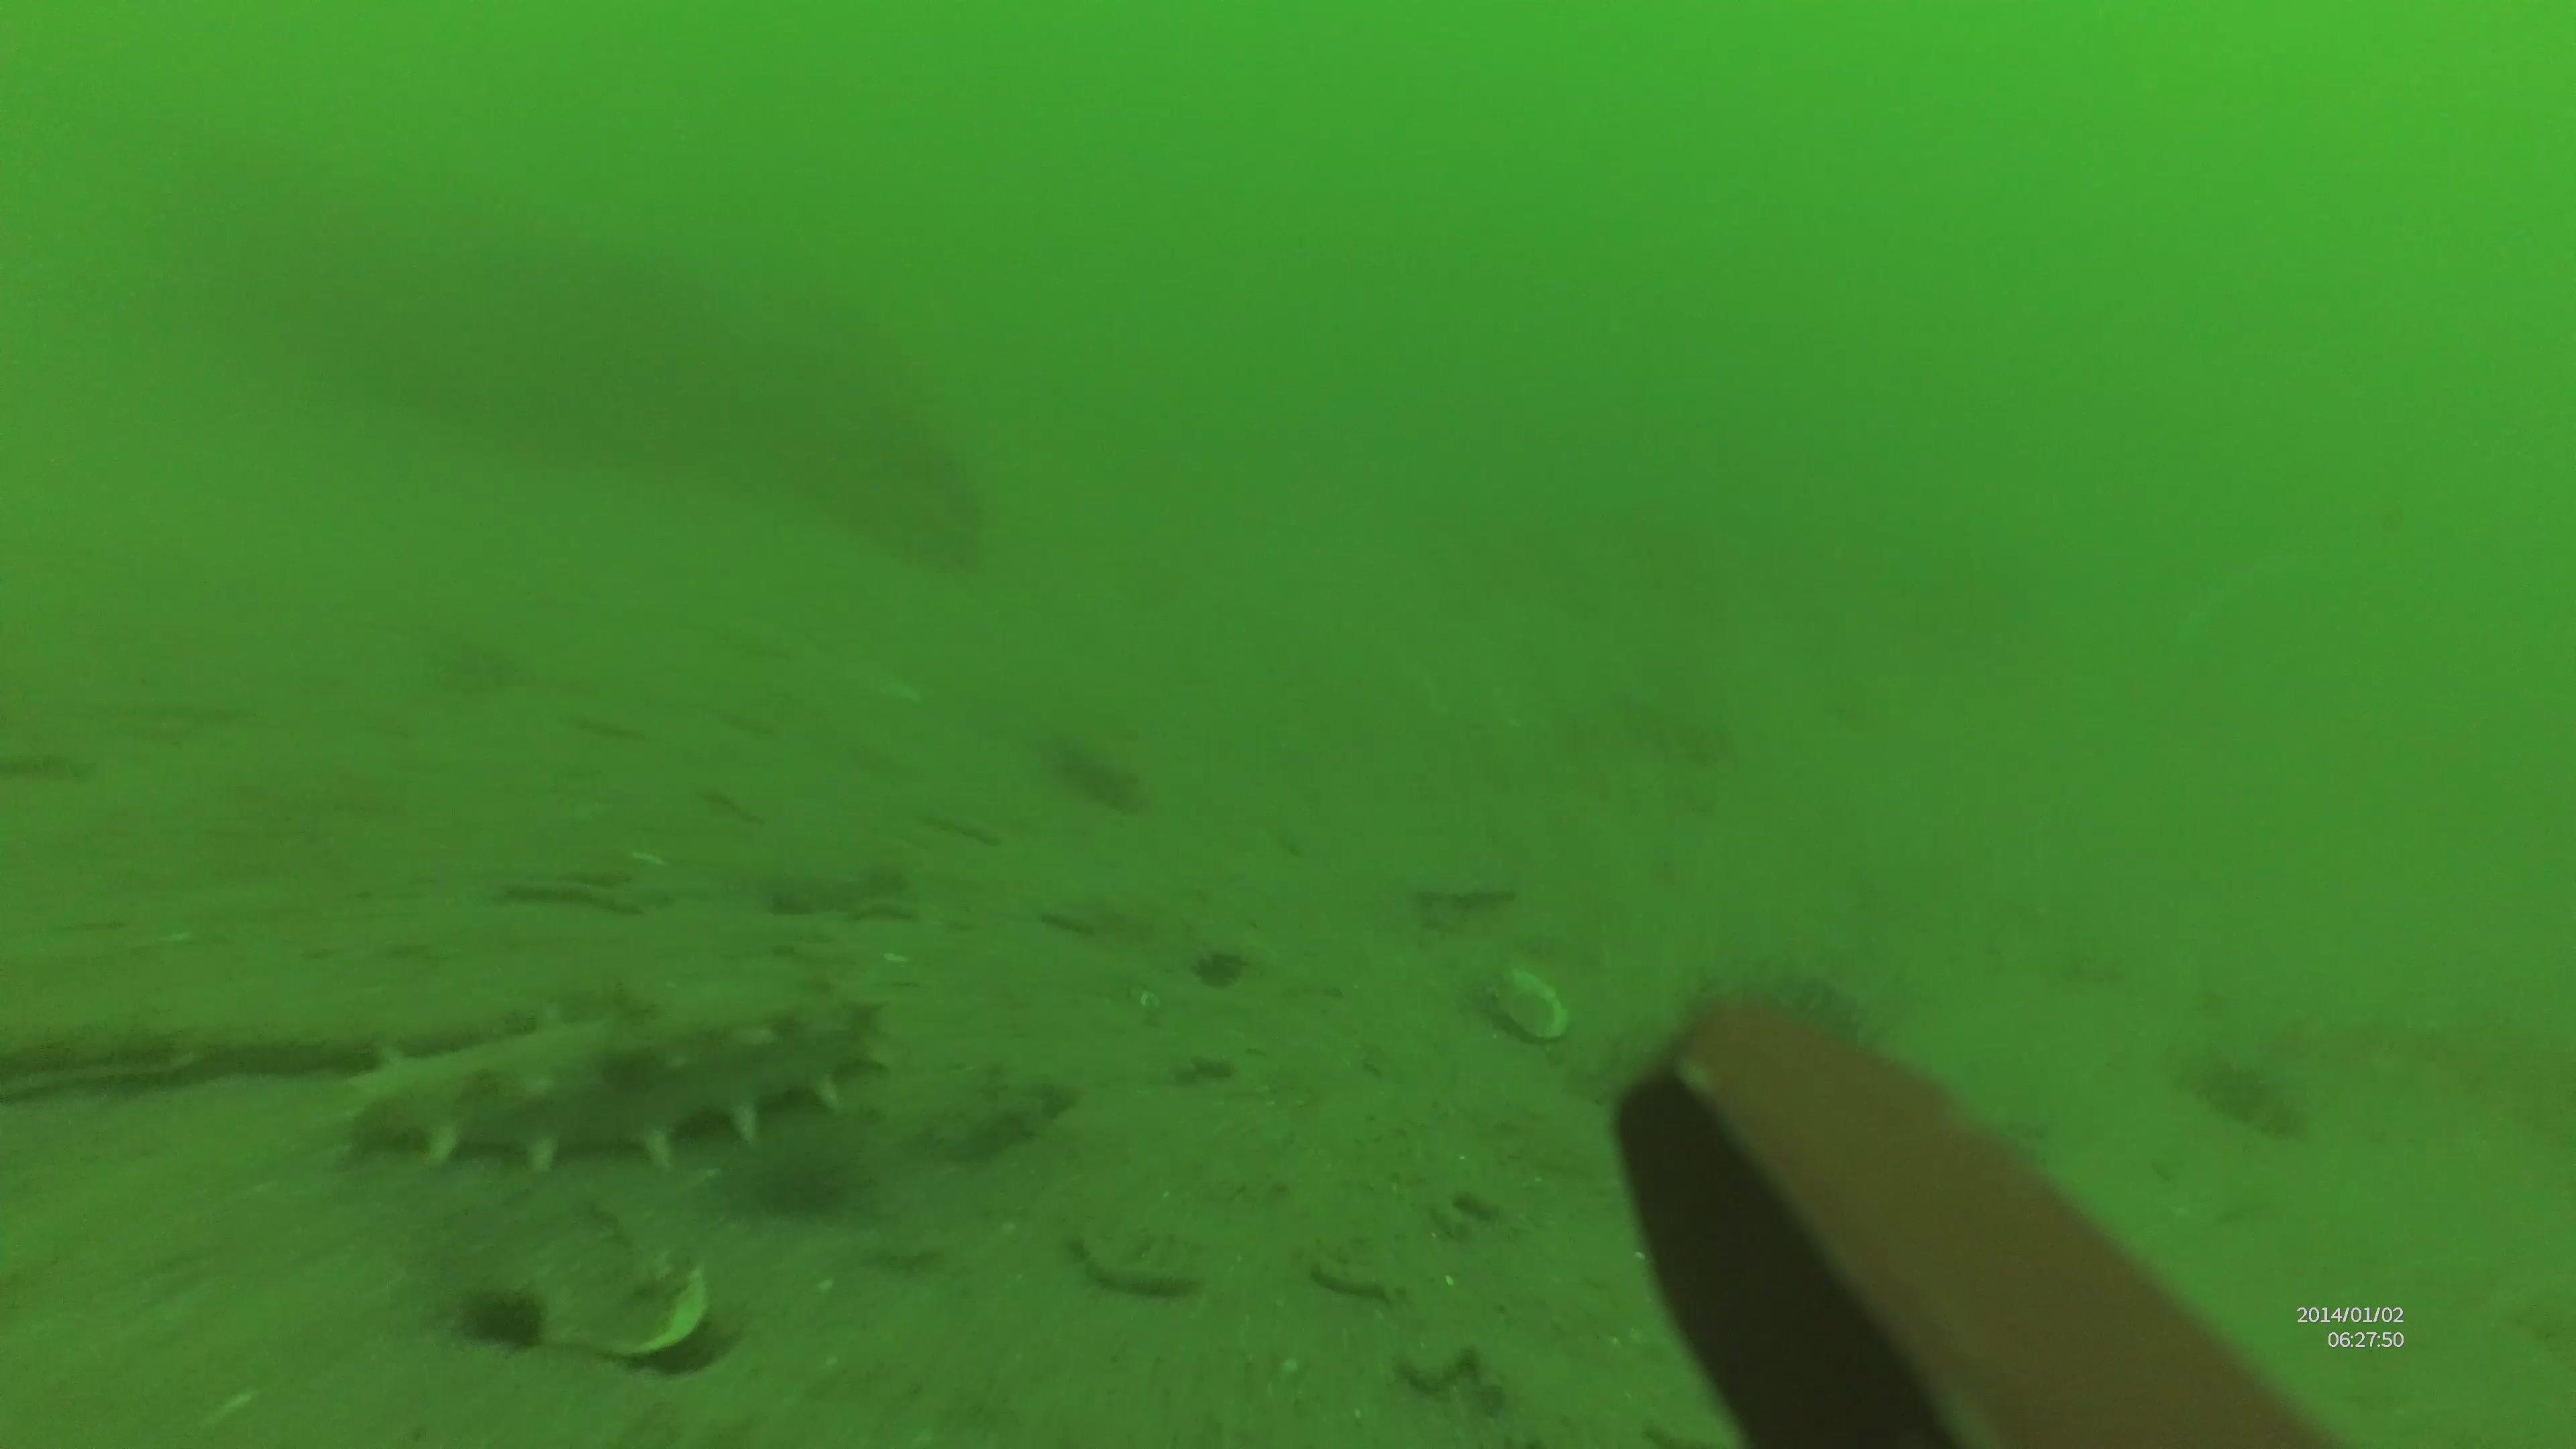holothurian: (338, 975, 892, 1168)
